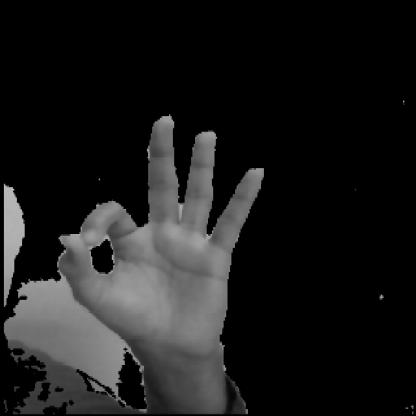ok: (47, 111, 274, 388)
